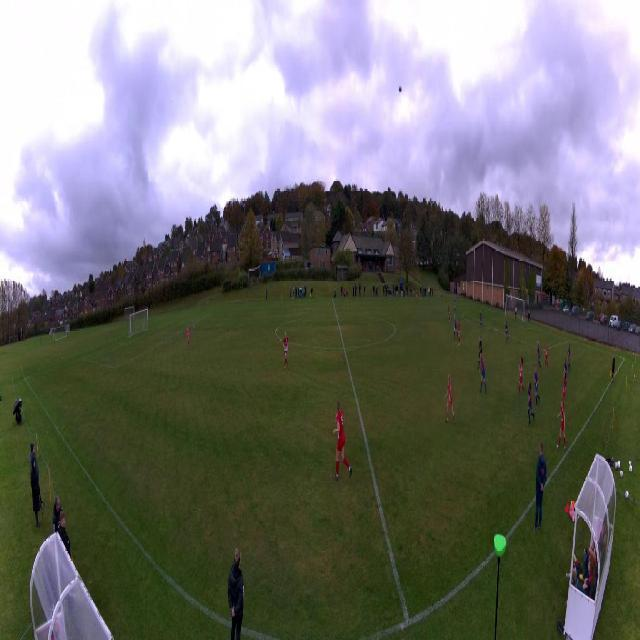ball: (399, 85, 402, 92)
player: (333, 400, 354, 480), (444, 373, 456, 424), (556, 400, 568, 447), (478, 353, 487, 395), (527, 382, 534, 426), (518, 357, 525, 395), (282, 331, 289, 368), (534, 365, 540, 405), (478, 335, 483, 369), (537, 340, 542, 368), (454, 314, 459, 340), (457, 318, 461, 346), (562, 370, 566, 398), (567, 343, 571, 370), (544, 341, 548, 368), (505, 321, 509, 345), (564, 359, 568, 379), (186, 325, 189, 349), (447, 306, 451, 323), (480, 310, 483, 328), (515, 306, 518, 322), (454, 297, 456, 312), (416, 290, 418, 302)
